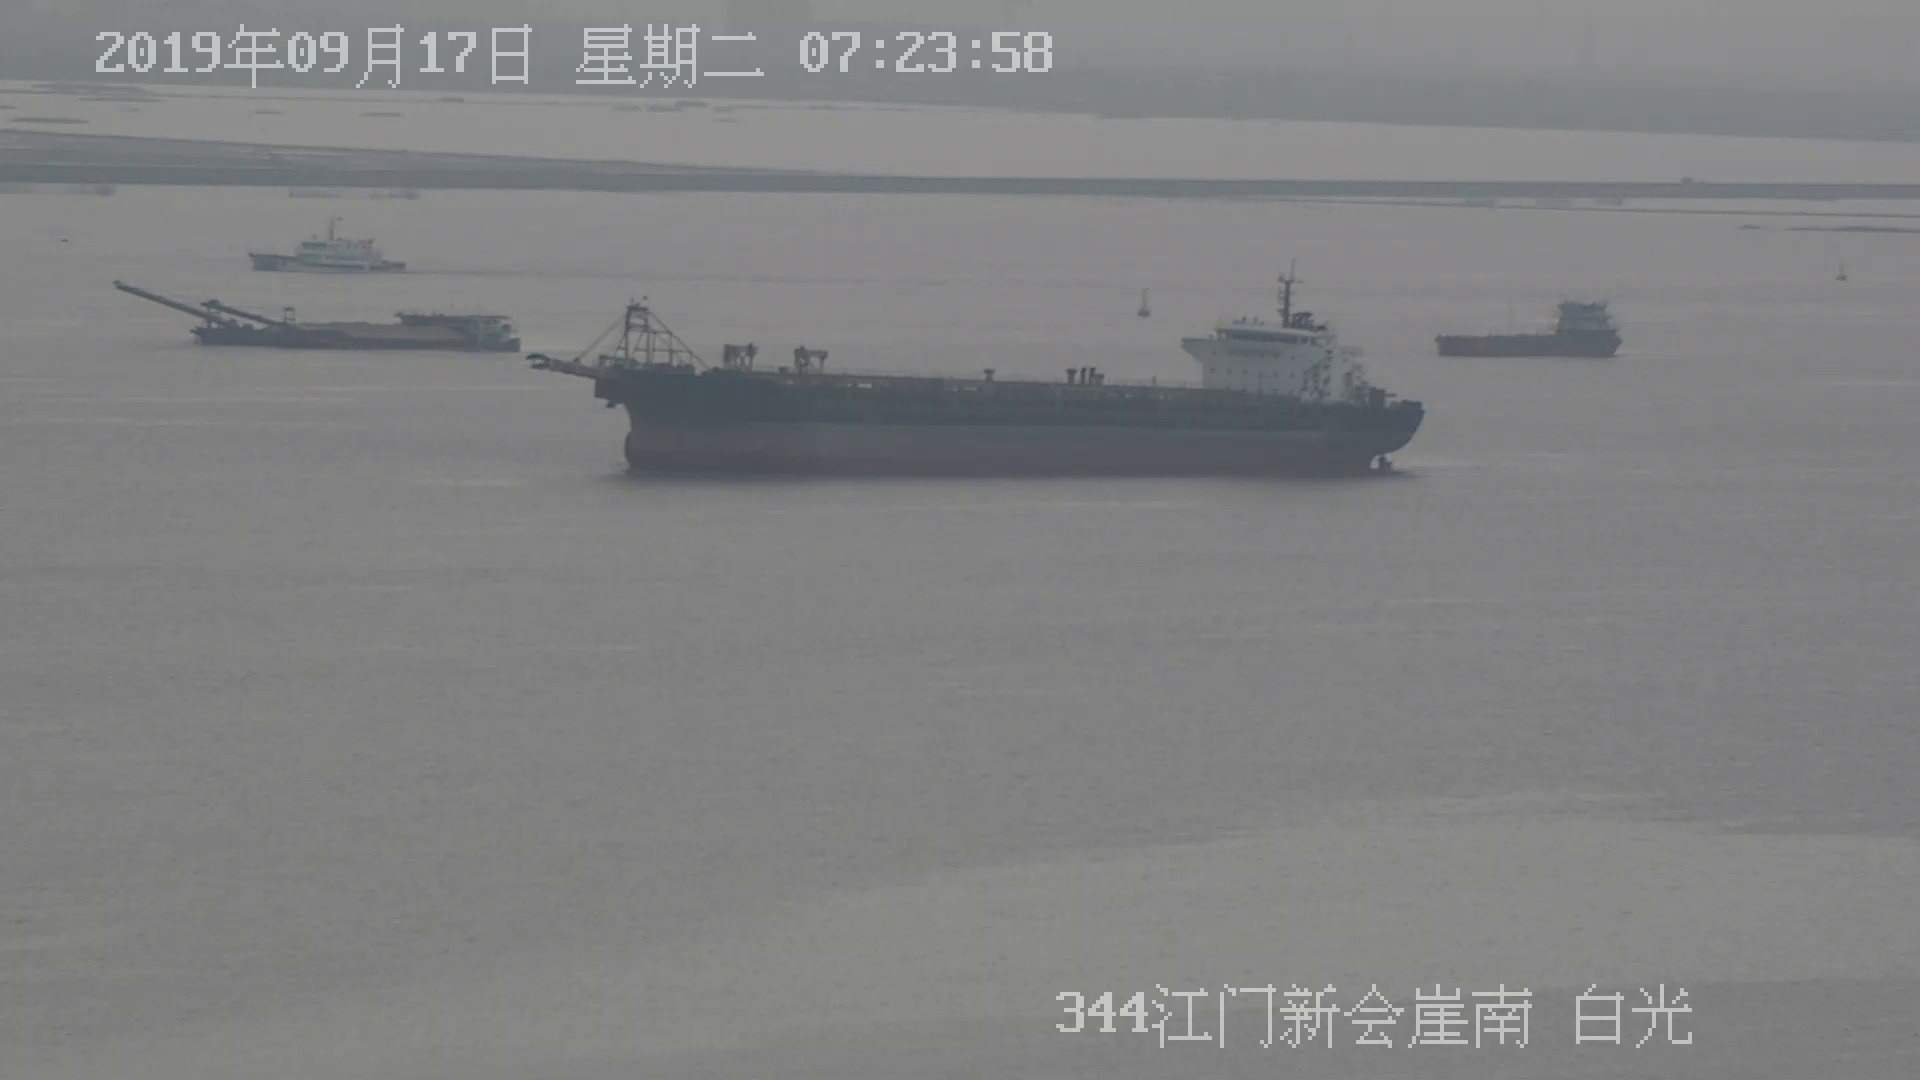ship: (526, 228, 1425, 488), (124, 281, 521, 367), (1437, 297, 1625, 357), (251, 222, 406, 273)
